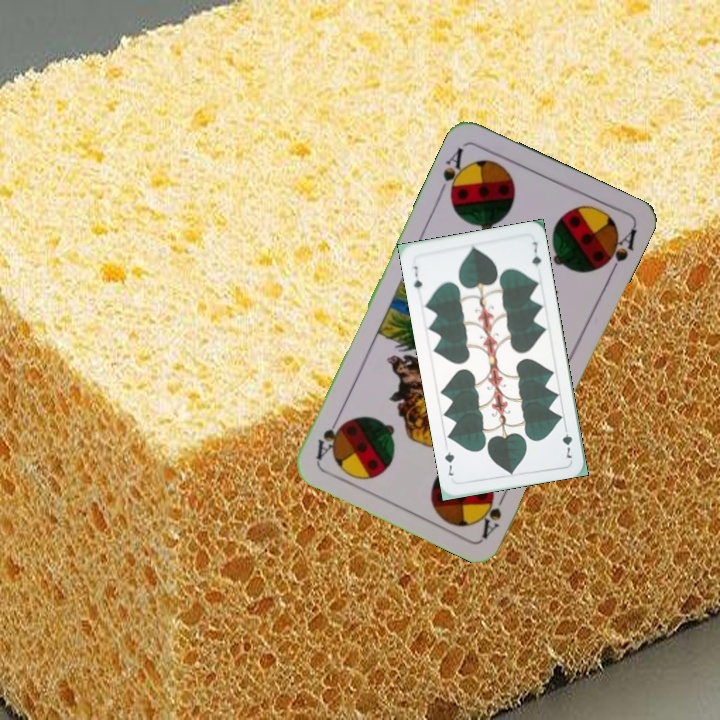G7: (558, 421, 575, 461), (410, 262, 425, 292)
SA: (434, 143, 471, 203), (478, 484, 511, 540)
